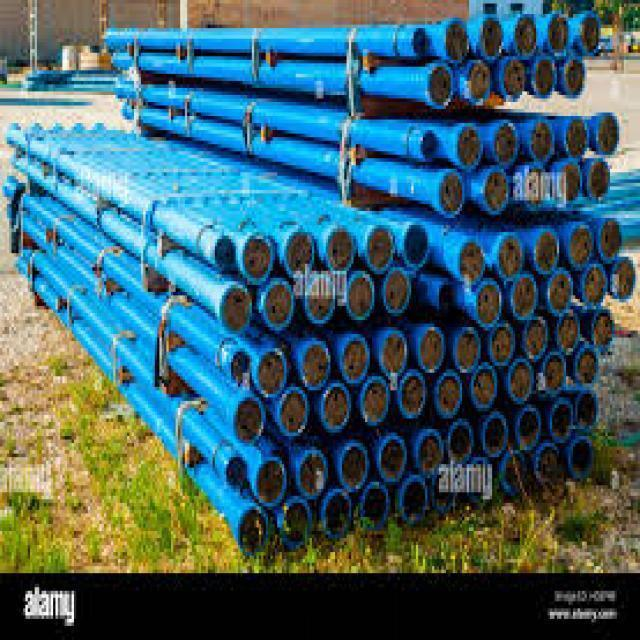pipe: (241, 233, 272, 280), (234, 396, 264, 444), (283, 497, 311, 548), (399, 369, 426, 421), (302, 341, 330, 391), (258, 456, 286, 506), (238, 507, 268, 553), (300, 447, 326, 498), (361, 377, 389, 424), (263, 283, 292, 328), (256, 349, 285, 394), (340, 441, 367, 489), (359, 481, 386, 529), (286, 231, 314, 277), (347, 272, 374, 319), (280, 392, 308, 437), (321, 382, 347, 430), (438, 169, 464, 216), (341, 336, 368, 381), (418, 431, 444, 477), (221, 291, 250, 332), (497, 237, 524, 280), (425, 64, 452, 107), (324, 492, 350, 536), (459, 239, 485, 283), (327, 231, 354, 273), (383, 329, 407, 375), (420, 328, 445, 372), (405, 224, 429, 269), (477, 280, 501, 325), (480, 13, 504, 58), (309, 276, 334, 319), (379, 440, 405, 481), (456, 125, 482, 166), (466, 60, 492, 101), (483, 169, 507, 213), (369, 227, 394, 269), (403, 479, 427, 522), (438, 373, 462, 416), (512, 273, 536, 316), (549, 269, 571, 315), (523, 167, 547, 209), (514, 16, 538, 58), (502, 55, 526, 97), (455, 329, 480, 369), (516, 408, 541, 448), (493, 121, 518, 161), (565, 117, 589, 158), (533, 54, 557, 95), (473, 363, 495, 407), (510, 360, 533, 402), (524, 316, 547, 358), (599, 218, 622, 260), (229, 347, 253, 387), (546, 13, 570, 53), (535, 231, 558, 272), (596, 114, 619, 155), (558, 163, 582, 202), (592, 307, 614, 349), (558, 309, 580, 351), (569, 225, 592, 265), (530, 121, 554, 159), (386, 271, 408, 312), (502, 451, 524, 492), (576, 344, 598, 385), (578, 14, 601, 53), (543, 354, 565, 394), (563, 55, 586, 93), (588, 158, 609, 199), (612, 259, 634, 297), (491, 329, 514, 365), (446, 25, 469, 61), (451, 424, 473, 461), (570, 437, 593, 472), (486, 415, 506, 455), (551, 402, 572, 440), (585, 269, 607, 304), (536, 443, 559, 476), (578, 390, 598, 427), (227, 455, 248, 489)
